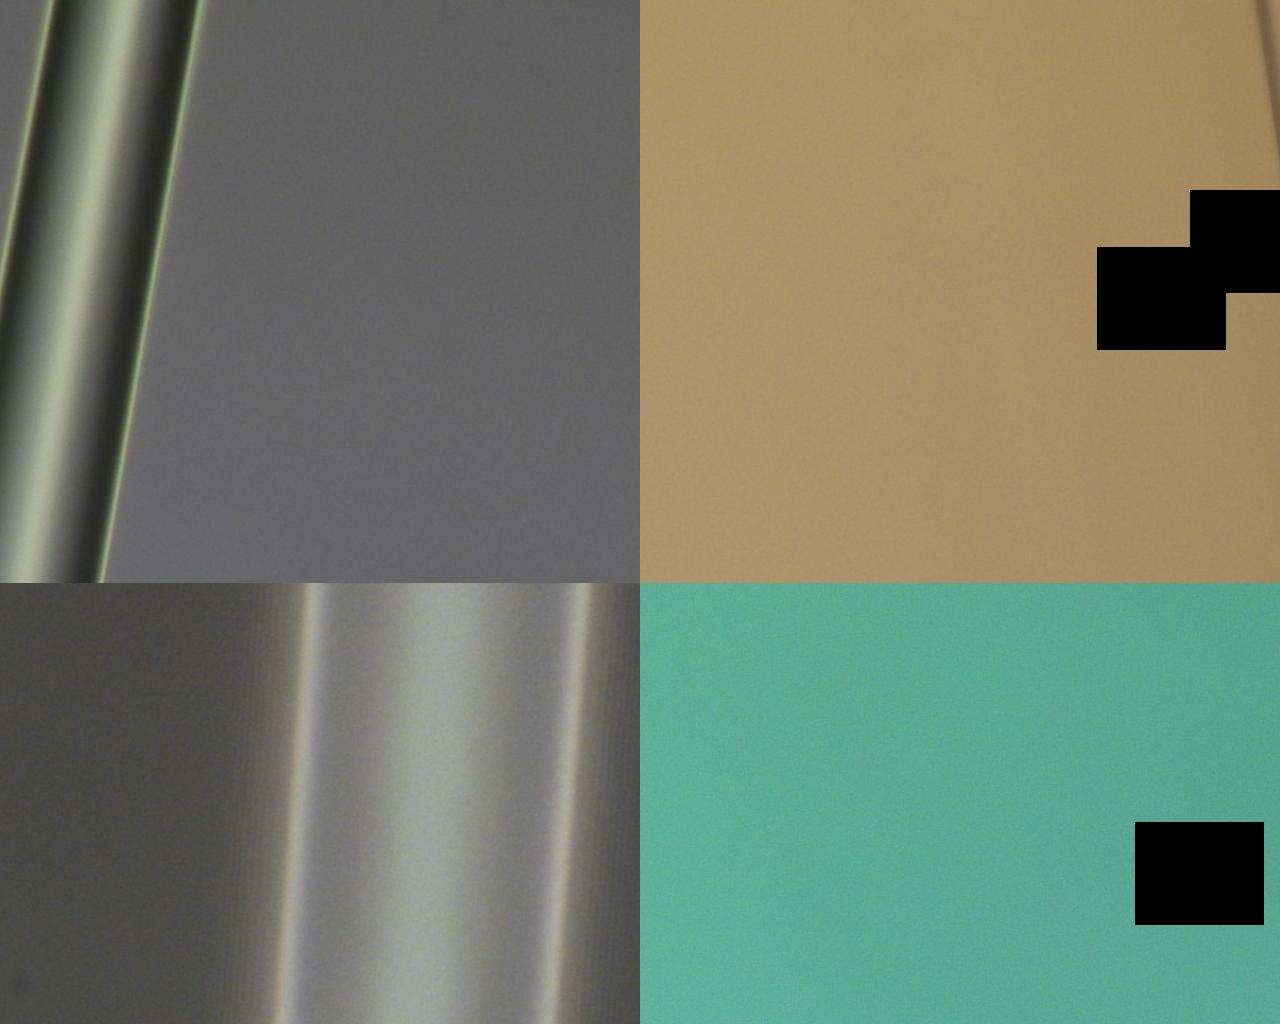fiber: (490, 0, 628, 460), (488, 460, 535, 1024)
